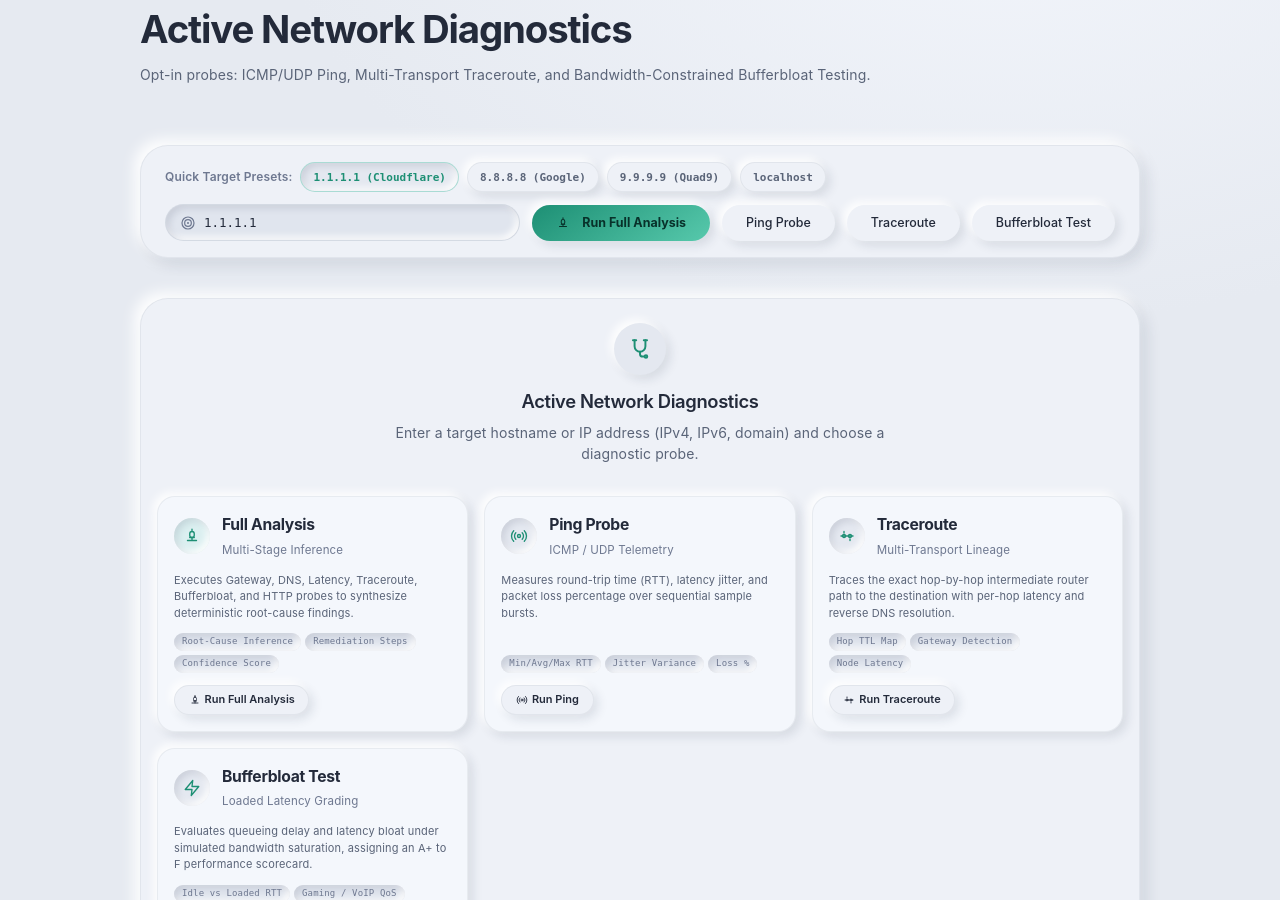
Test case: Diagnostics Vertical Slice Verification Checkpoints › Checkpoint 6: Bufferbloat Test Execution - Click 'Bufferbloat Test', measures idle/loaded RTT, computes delta, assigns authentic grade
Click the button "Bufferbloat Test" at x=1043, y=223, box [972,205,1115,241]
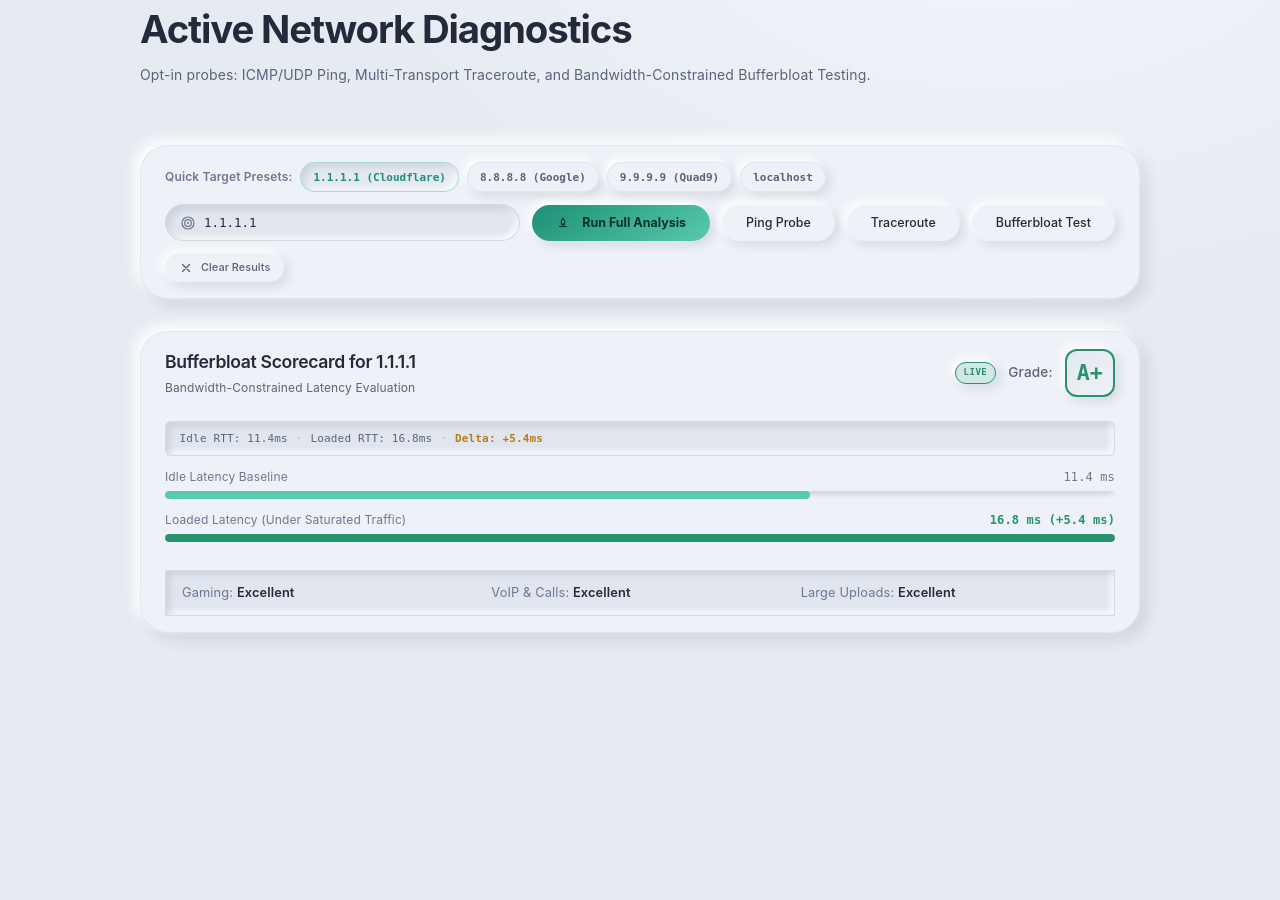
Expected: the heading "Bufferbloat Scorecard for 1.1.1.1" is shown, [165,348,416,376]
Expected: the text "Idle RTT: 11.4ms" is shown, [180,430,288,447]
Expected: the text "Loaded RTT: 16.8ms" is shown, [311,430,432,447]
